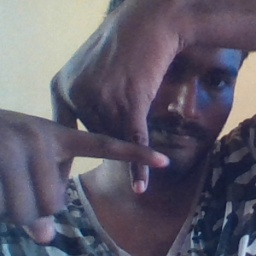H: (33, 87, 167, 203)
